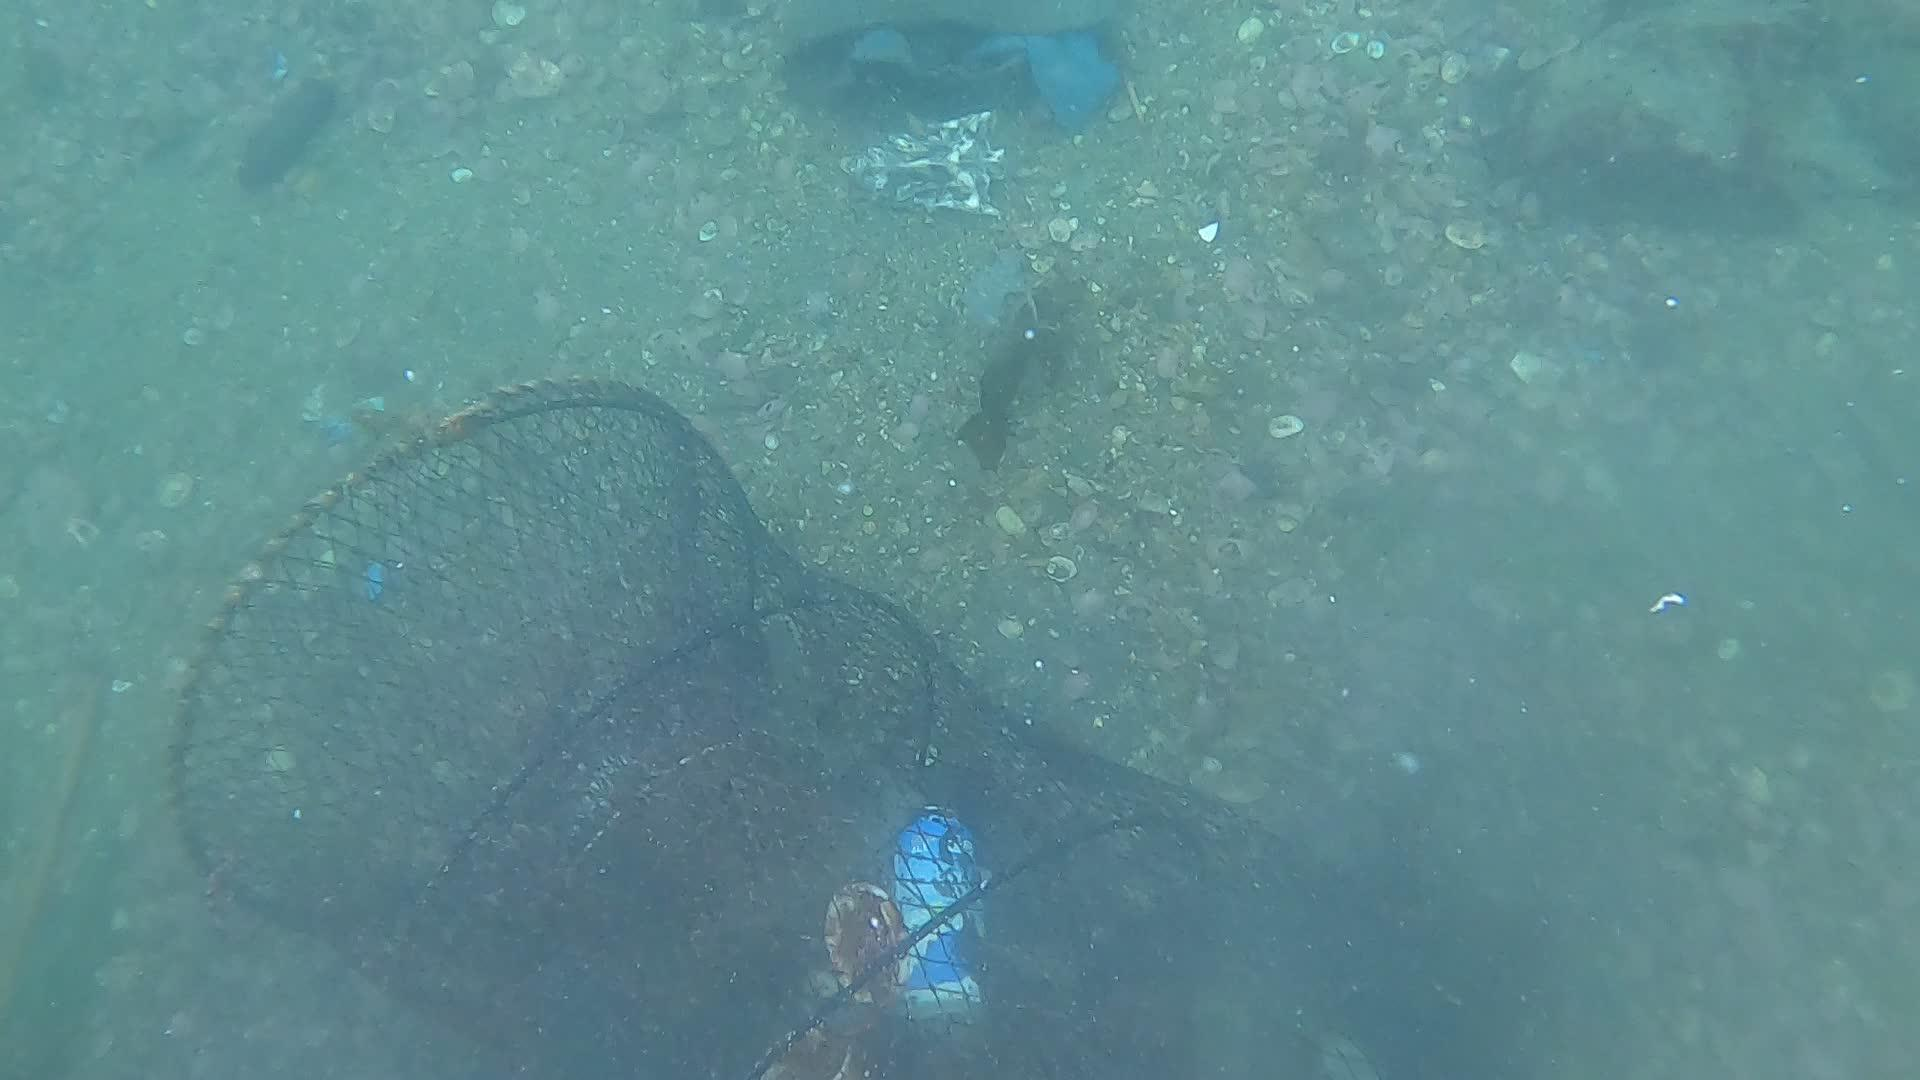spring fish trap: (164, 373, 1457, 1080)
